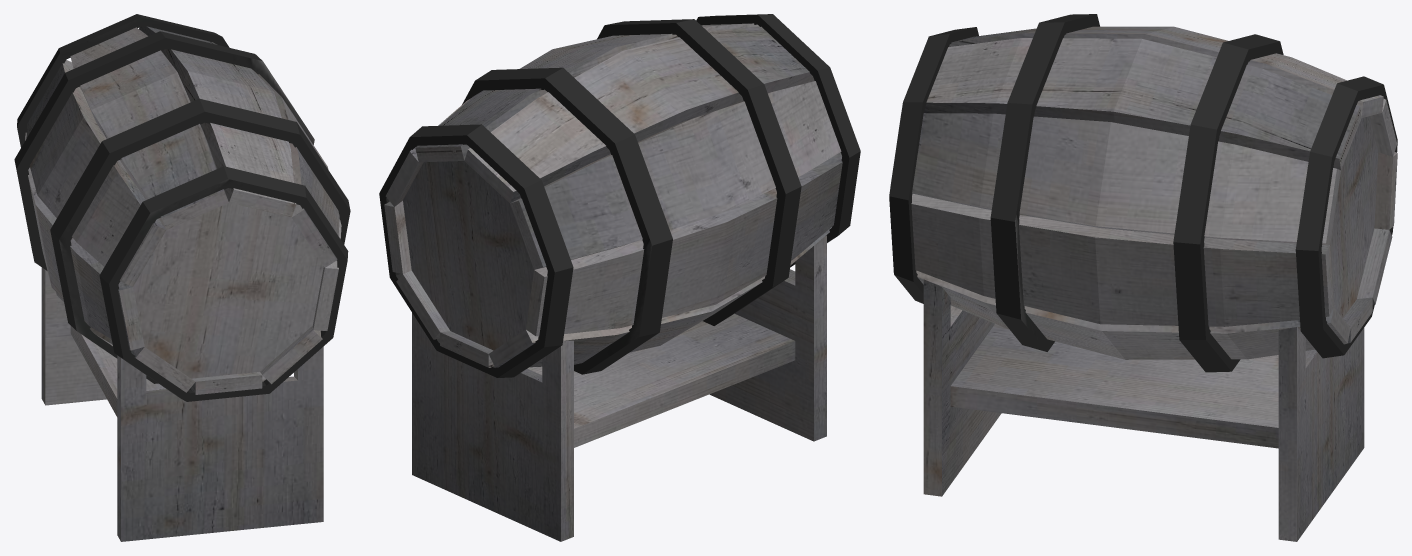
The model's file is barrel.glb.
The picture shows the model from 3 angles, left to right: view 1: azimuth 30°, elevation 25°; view 2: azimuth 150°, elevation 25°; view 3: azimuth 270°, elevation 25°; orthographic projection. The views are drawn at different scales.
Parts seen in each view (by area): view 1: Barrel; view 2: Barrel; view 3: Barrel.
Boxes of the visible parts, box(x1,y1,x2,y2) form: Barrel: box(14, 14, 350, 541); Barrel: box(379, 14, 860, 541); Barrel: box(889, 14, 1397, 541).
Bounding box in the file's own units: 0.9013 × 1.11 × 1.17.
Materials: 1 (1 with a texture image).
